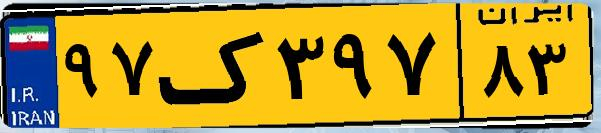3: (270, 28, 330, 110), (525, 38, 570, 115)
7: (385, 28, 445, 110), (110, 28, 158, 98)
8: (475, 38, 525, 113)
9: (330, 28, 385, 110), (57, 26, 110, 100)
ک: (158, 12, 270, 120)
